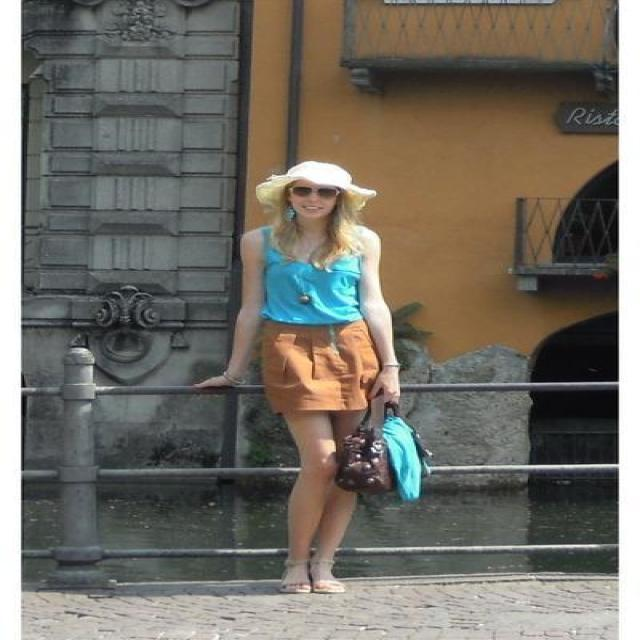bag: (350, 415, 424, 497)
hat: (326, 167, 374, 194)
shirt: (262, 251, 364, 323)
shoe: (268, 560, 378, 594)
skirt: (246, 316, 392, 413)
sunglass: (294, 179, 348, 208)
